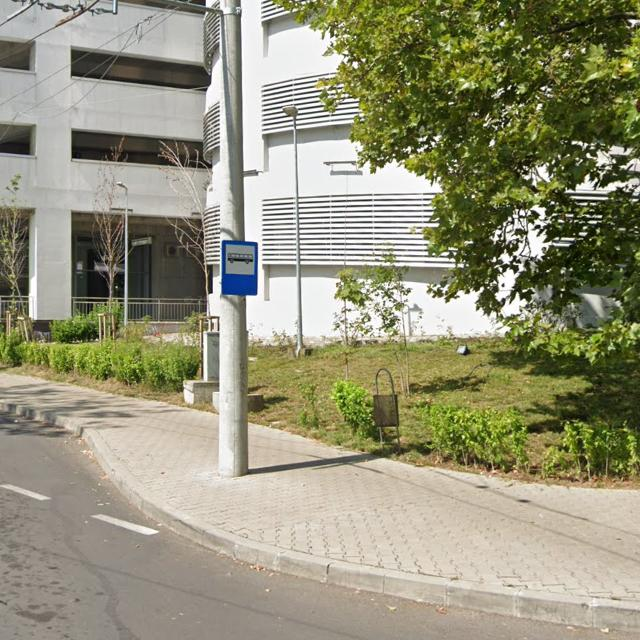info_bus_station: (222, 240, 258, 296)
